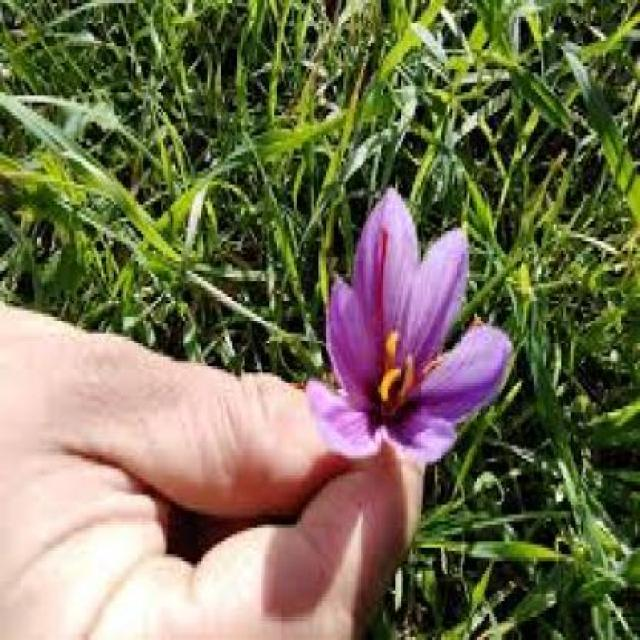Flower: (313, 185, 512, 464)
stigma: (362, 222, 394, 350)
